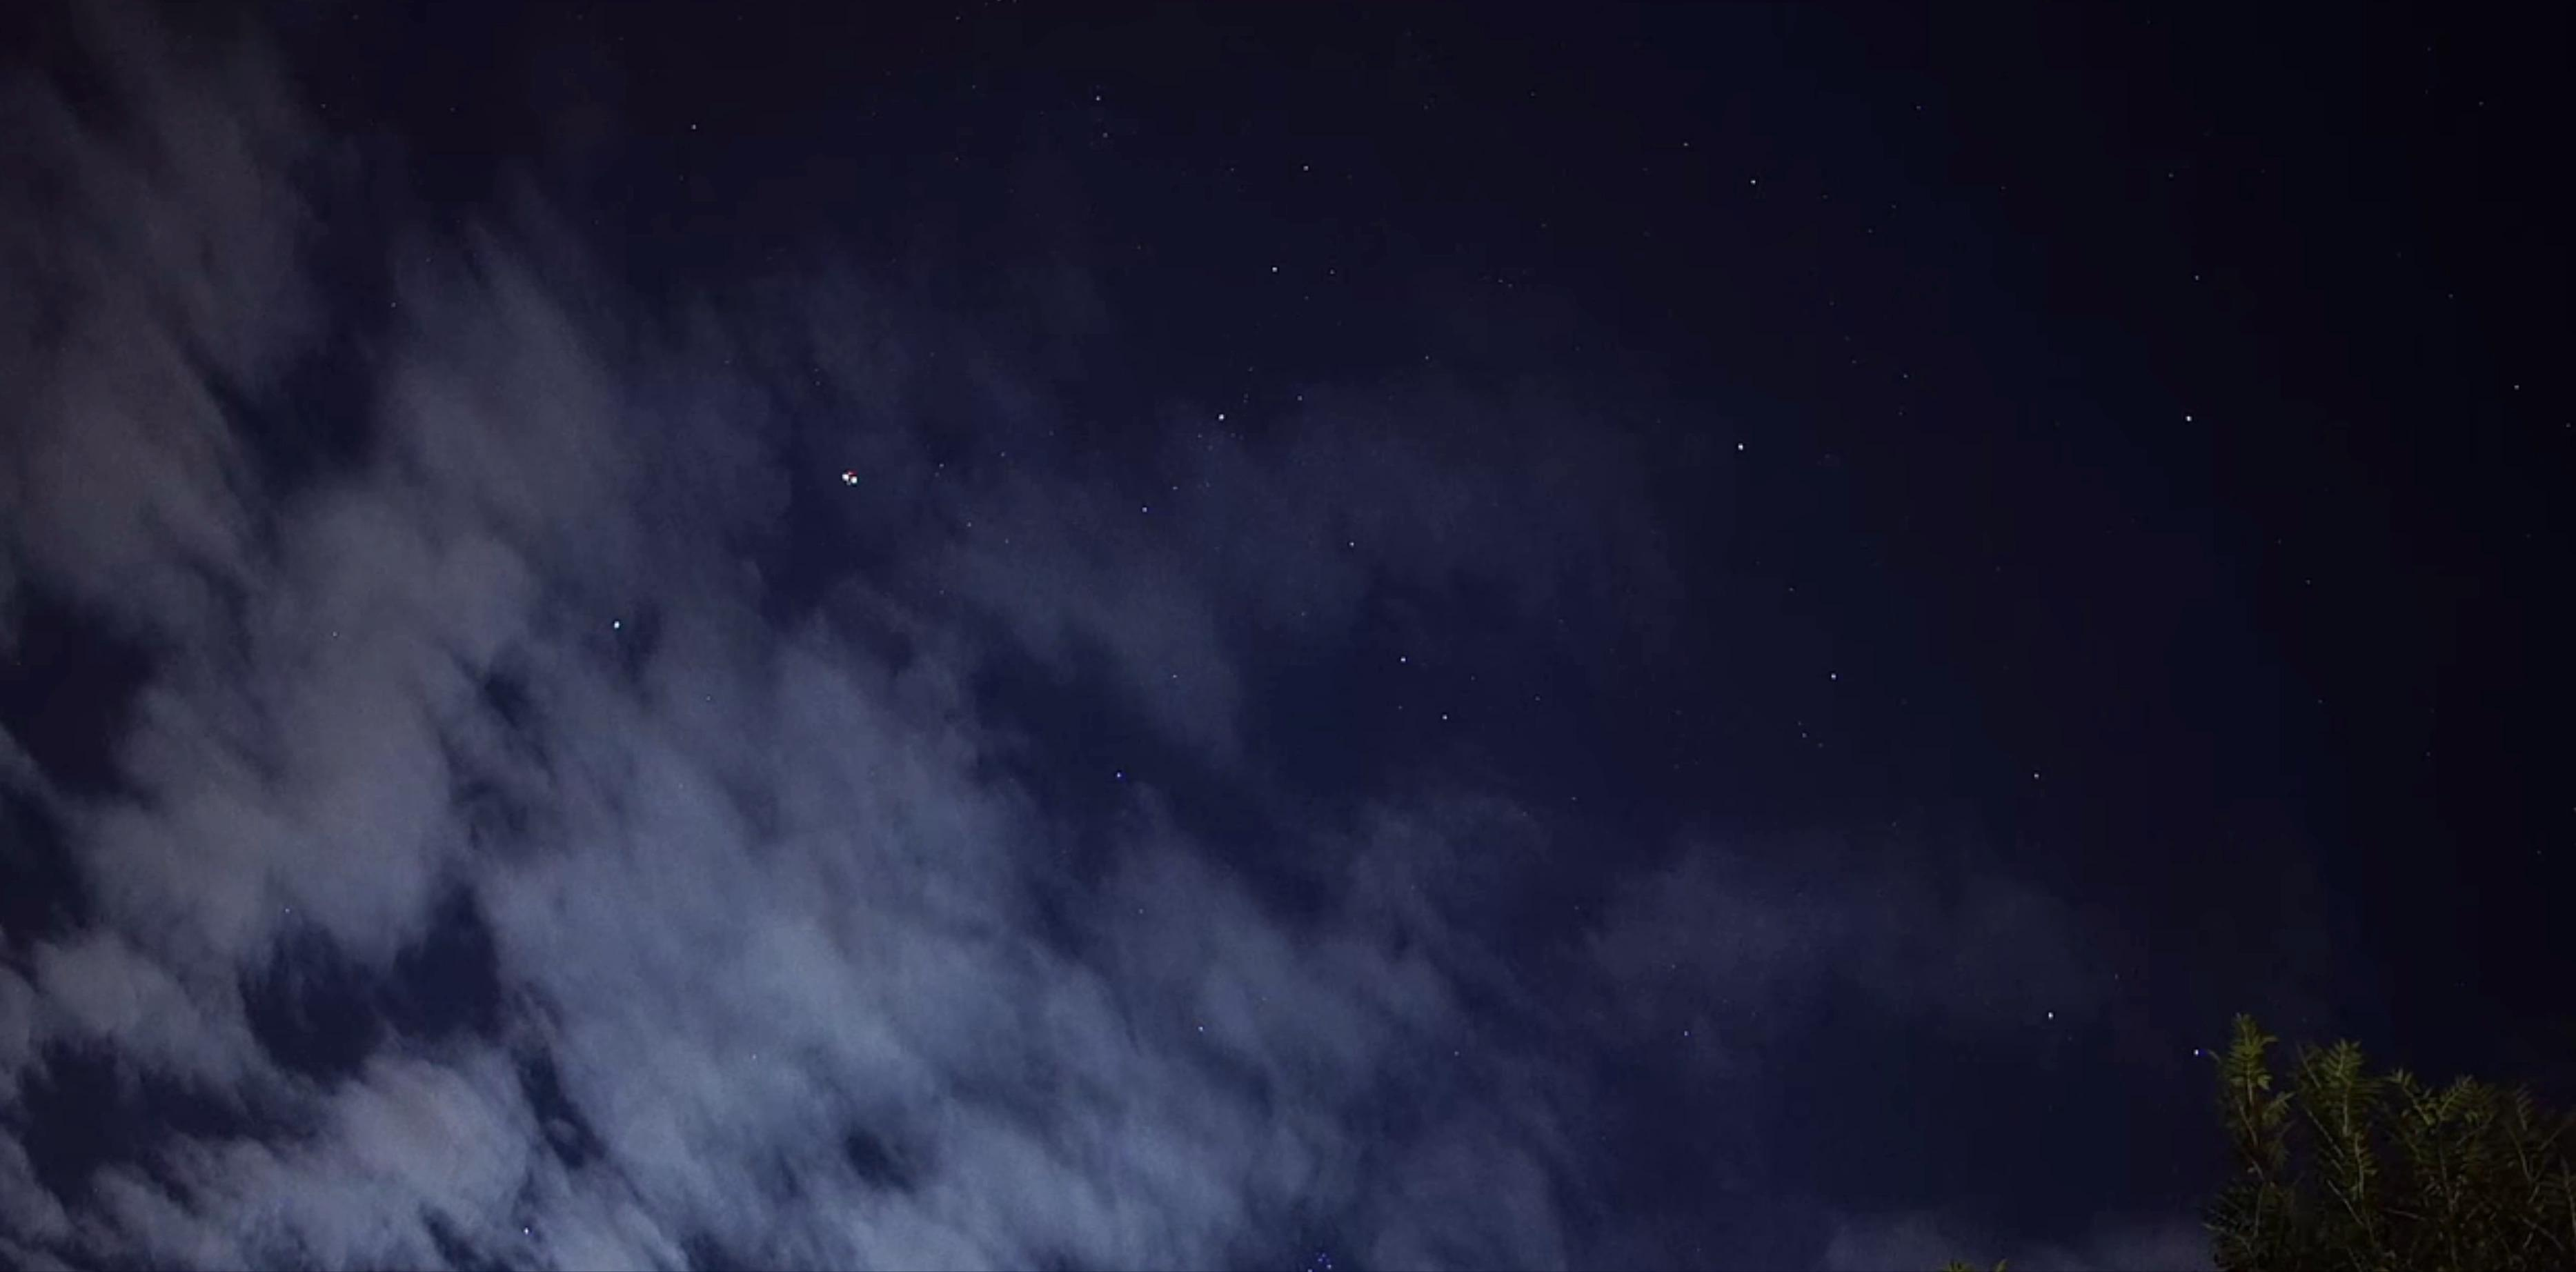Plane: (828, 452, 872, 496)
